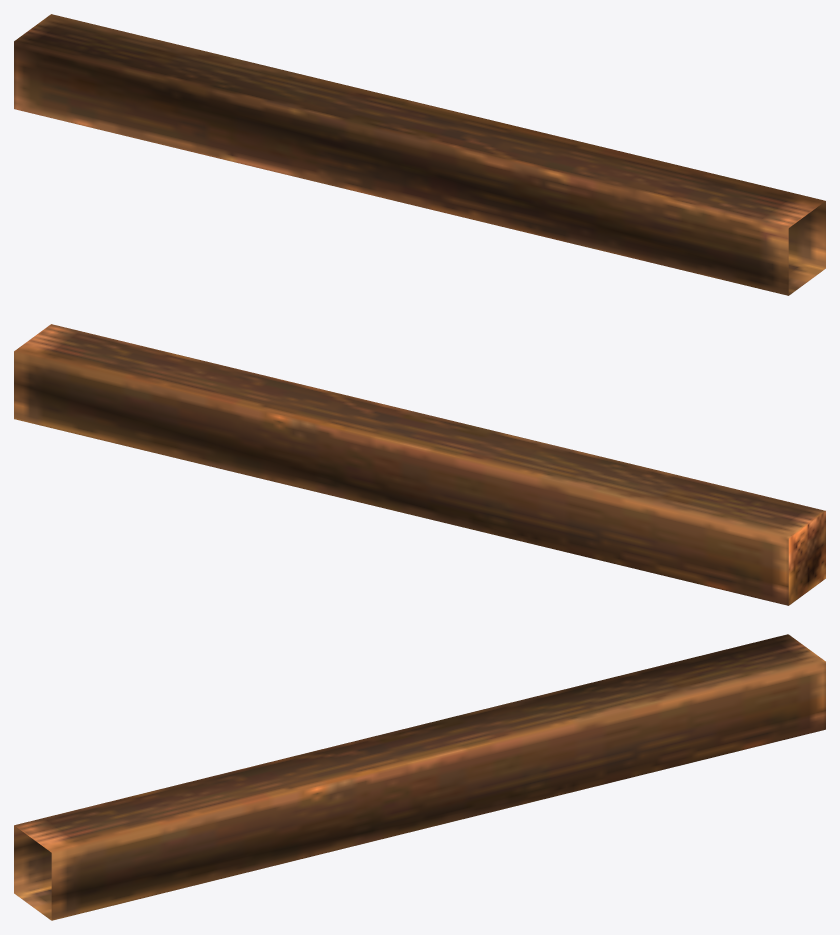
Rendered from SWORDLIGHT20_JAILBRACE07.fbx.
3 renders of one model, top to bottom at view 1: azimuth 30°, elevation 25°; view 2: azimuth 210°, elevation 25°; view 3: azimuth 270°, elevation 25°, orthographic.
Visible parts, largest first — view 1: SWORDLIGHT20_JAILBRACE07; view 2: SWORDLIGHT20_JAILBRACE07; view 3: SWORDLIGHT20_JAILBRACE07.
Part boxes in pixels (x1=…): SWORDLIGHT20_JAILBRACE07: x1=14, y1=14, x2=825, y2=295; SWORDLIGHT20_JAILBRACE07: x1=14, y1=324, x2=825, y2=605; SWORDLIGHT20_JAILBRACE07: x1=14, y1=634, x2=825, y2=920.
Bounding box in the file's own units: 27555 × 4000 × 43250.
Materials: 1 (1 with a texture image).
